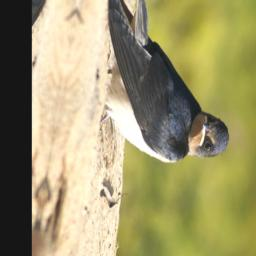Swallow: (81, 0, 256, 176)
